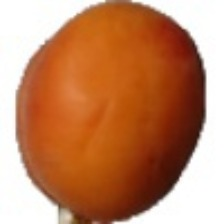apricot: (39, 42, 223, 190)
